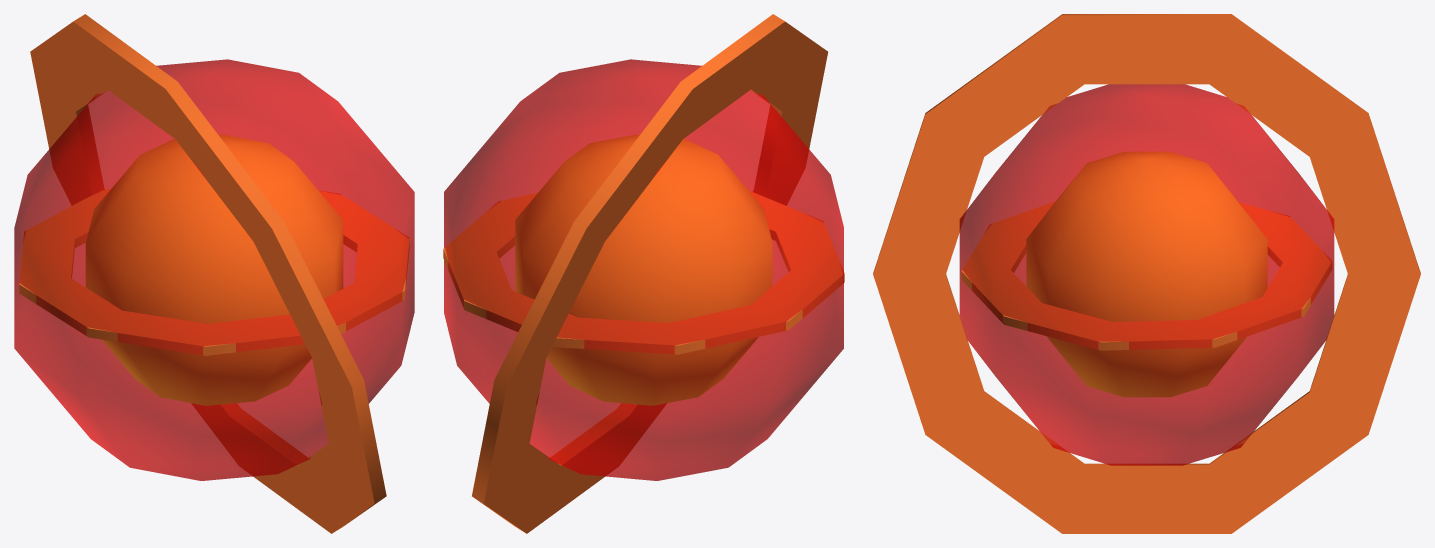
The model's file is Enemy_Attack14.obj.
3 renders of one model, left to right at view 1: azimuth 30°, elevation 25°; view 2: azimuth 150°, elevation 25°; view 3: azimuth 270°, elevation 25°, orthographic. The views are drawn at different scales.
Parts seen in each view (by area): view 1: Sphere002, Sphere001, Tube001, Tube002; view 2: Sphere002, Sphere001, Tube001, Tube002; view 3: Sphere002, Tube001, Sphere001, Tube002.
Boxes of the visible parts, box(x1,y1,x2,y2) form: Sphere002: box(14, 59, 414, 480); Sphere001: box(85, 134, 343, 405); Tube001: box(30, 14, 386, 533); Tube002: box(19, 189, 409, 355); Sphere002: box(444, 59, 843, 480); Sphere001: box(515, 134, 772, 405); Tube001: box(472, 14, 827, 533); Tube002: box(443, 191, 844, 354); Sphere002: box(959, 84, 1334, 465); Tube001: box(873, 14, 1420, 533); Sphere001: box(1026, 151, 1267, 397); Tube002: box(961, 201, 1331, 350).
Bounding box in the file's own units: 20.86 × 28.68 × 31.73.
